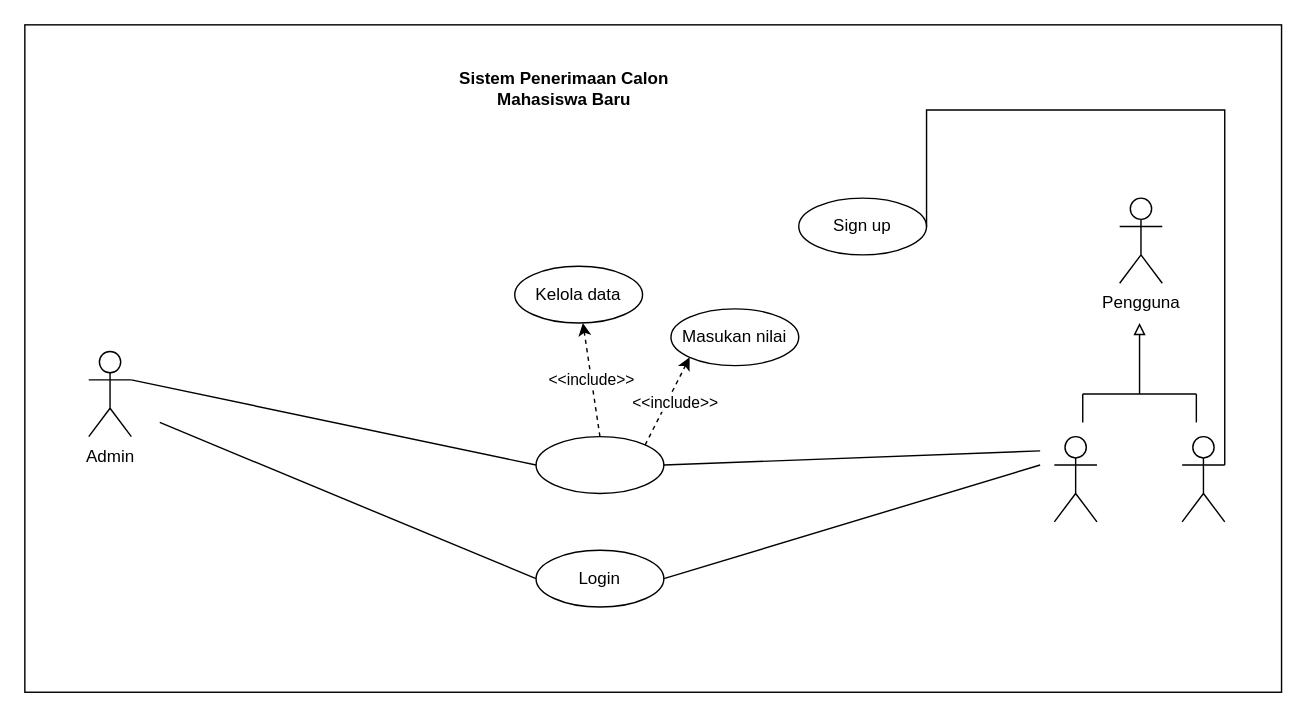
Image size: 1306x717. Some labels were removed from this diagram. Here are the shapes that lost their labels. From the top down, the centre of each, then its label:
(599,464): View dashboard
(1075,478): Pengguna lama
(1203,478): Pengguna baru
